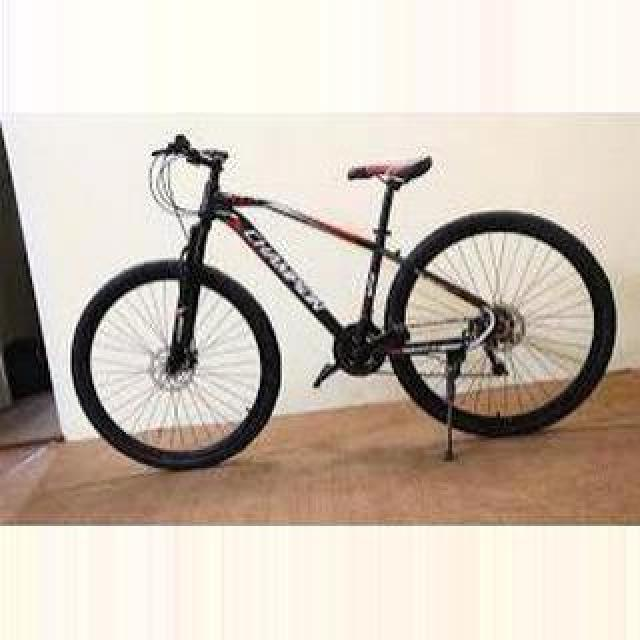Person: (69, 133, 619, 475)
